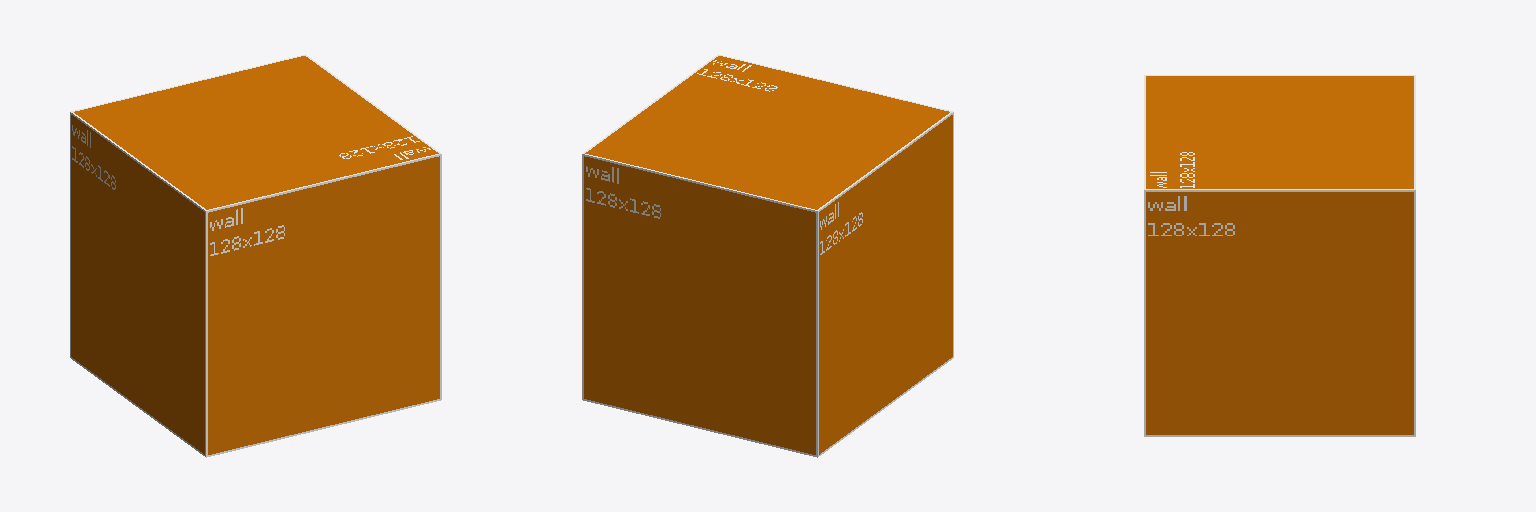
3 views of the same model, side by side, from view 1: azimuth 30°, elevation 25°; view 2: azimuth 150°, elevation 25°; view 3: azimuth 270°, elevation 25° (orthographic).
Parts seen in each view (by area): view 1: Cube; view 2: Cube; view 3: Cube.
Boxes of the visible parts, x1=… form: Cube: x1=70, y1=54, x2=441, y2=457; Cube: x1=582, y1=54, x2=953, y2=457; Cube: x1=1144, y1=75, x2=1415, y2=436.
Size of the model in its own units: 2 by 2 by 2.
Materials: 1 (1 with a texture image).